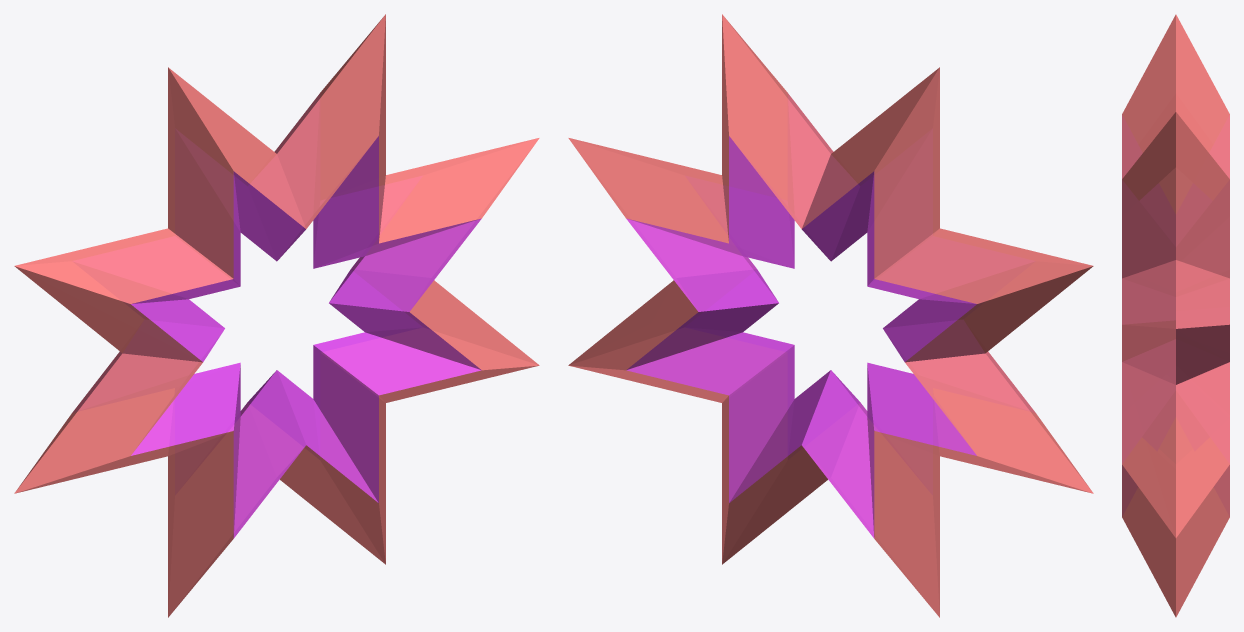
Rendered from Regular8TetragonalStarToroid.obj.
3 views of the same model, side by side, from view 1: azimuth 30°, elevation 25°; view 2: azimuth 150°, elevation 25°; view 3: azimuth 270°, elevation 25° (orthographic). The views are drawn at different scales.
Size of the model in its own units: 3.62 by 3.62 by 0.7.
